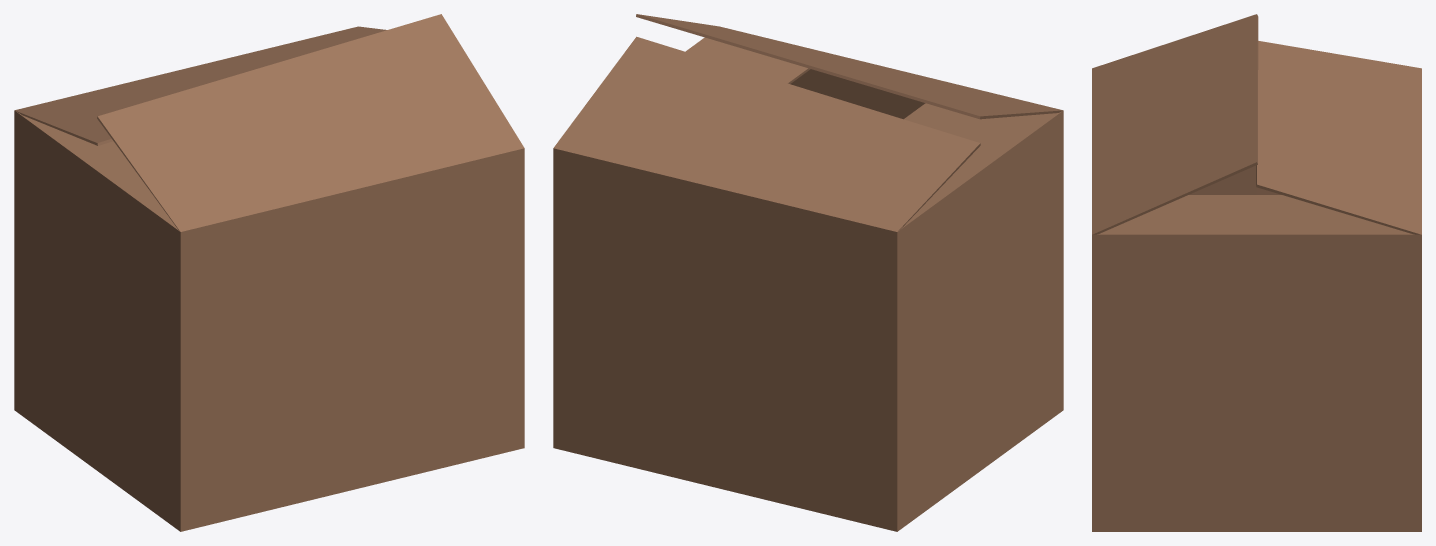
File: carton (1).fbx
3 renders of one model, left to right at view 1: azimuth 30°, elevation 25°; view 2: azimuth 150°, elevation 25°; view 3: azimuth 270°, elevation 25°, orthographic.
Parts seen in each view (by area): view 1: carton; view 2: carton; view 3: carton.
Boxes of the visible parts, x1=… form: carton: x1=14, y1=14, x2=524, y2=531; carton: x1=553, y1=14, x2=1063, y2=531; carton: x1=1092, y1=14, x2=1421, y2=531.
Bounding box in the file's own units: 66.06 × 68.46 × 55.32.
